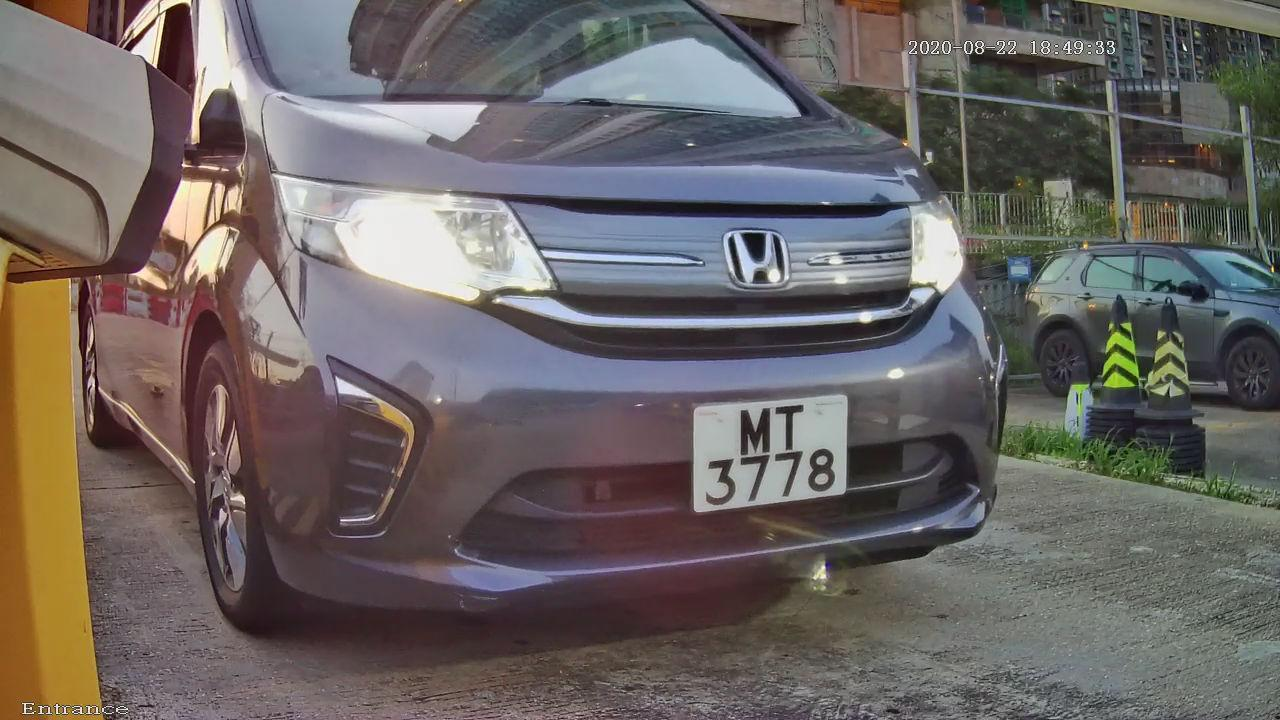Car: (41, 4, 1103, 666)
License Plate: (675, 383, 869, 524)
